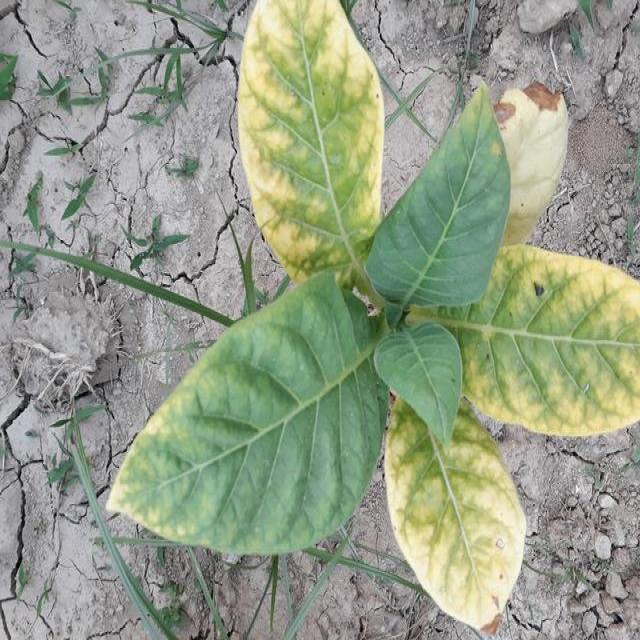crop: (109, 1, 639, 640)
